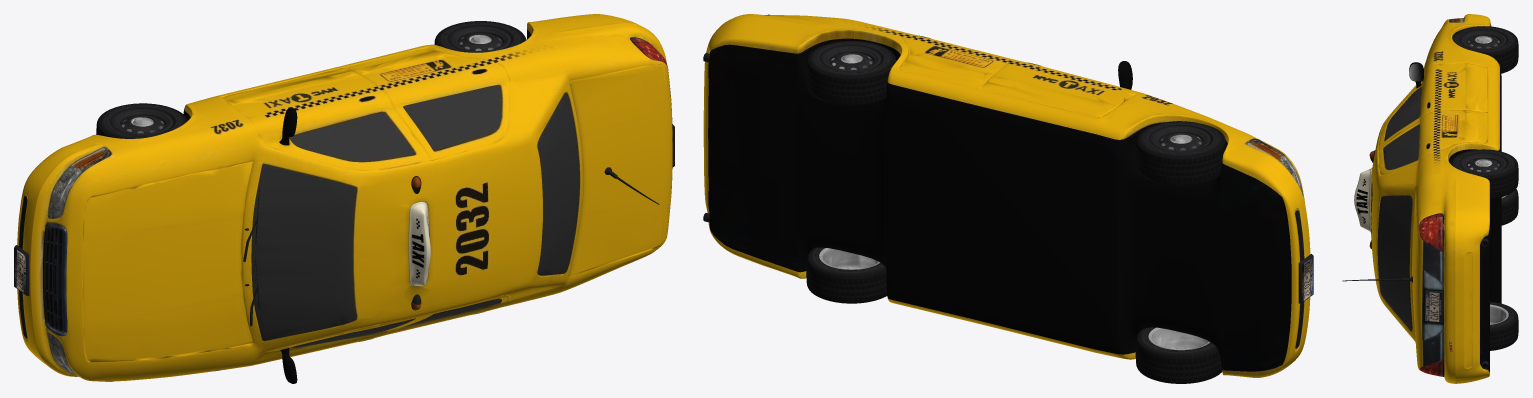
Rendered from extra-stage2.glb.
3 views of the same model, side by side, from view 1: azimuth 30°, elevation 25°; view 2: azimuth 150°, elevation 25°; view 3: azimuth 270°, elevation 25° (orthographic). The views are drawn at different scales.
Visible parts, largest first — view 1: 13914_Taxi_car, 13914_Taxi_wheel_03, 13914_Taxi_parts; view 2: 13914_Taxi_car, 13914_Taxi_wheel_03, 13914_Taxi_parts; view 3: 13914_Taxi_car, 13914_Taxi_wheel_03, 13914_Taxi_parts.
Boxes of the visible parts, x1,y1,x2,y2 form: 13914_Taxi_car: [17, 14, 672, 383]; 13914_Taxi_wheel_03: [96, 21, 526, 138]; 13914_Taxi_parts: [14, 124, 674, 326]; 13914_Taxi_car: [703, 14, 1310, 377]; 13914_Taxi_wheel_03: [806, 40, 1226, 383]; 13914_Taxi_parts: [703, 53, 1313, 303]; 13914_Taxi_car: [1354, 14, 1501, 383]; 13914_Taxi_wheel_03: [1450, 26, 1518, 350]; 13914_Taxi_parts: [1342, 150, 1488, 368].
Bounding box in the file's own units: 2 × 0.8308 × 0.6472.
Materials: 3 (3 with a texture image).
